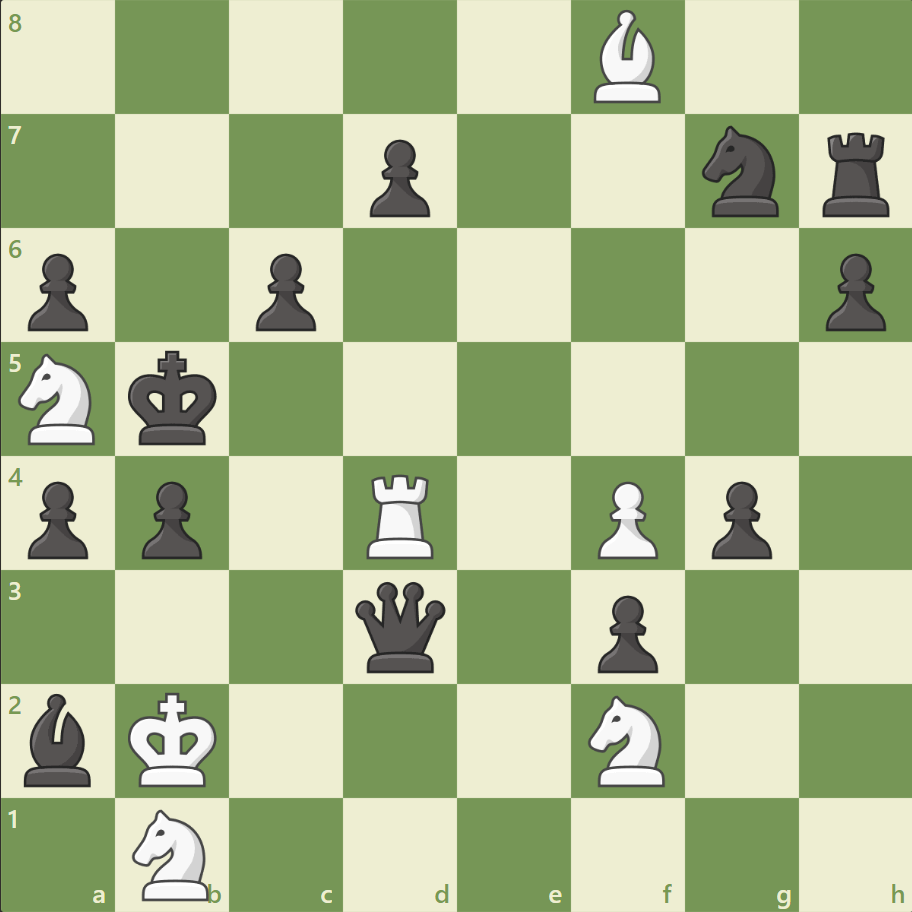B: (585, 6, 669, 109)
K: (124, 685, 224, 793)
N: (124, 802, 222, 904), (579, 688, 676, 791), (11, 348, 108, 450)
P: (588, 473, 662, 564)
R: (360, 466, 442, 563)
b: (17, 687, 101, 790)
k: (124, 344, 224, 452)
n: (692, 121, 789, 223)
p: (20, 246, 95, 337), (247, 246, 322, 337), (20, 473, 95, 564), (133, 473, 208, 564), (701, 473, 776, 564), (361, 132, 435, 223), (815, 246, 889, 337), (588, 586, 662, 677)
q: (351, 576, 450, 676)
r: (814, 125, 897, 222)
